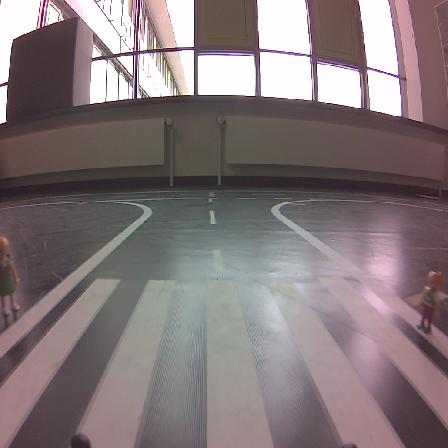CHILD: (417, 271, 443, 332)
PERSON: (0, 237, 19, 314)
